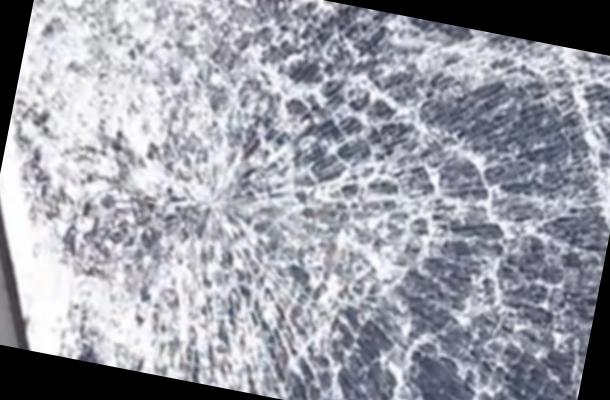Crack: (0, 0, 476, 399)
